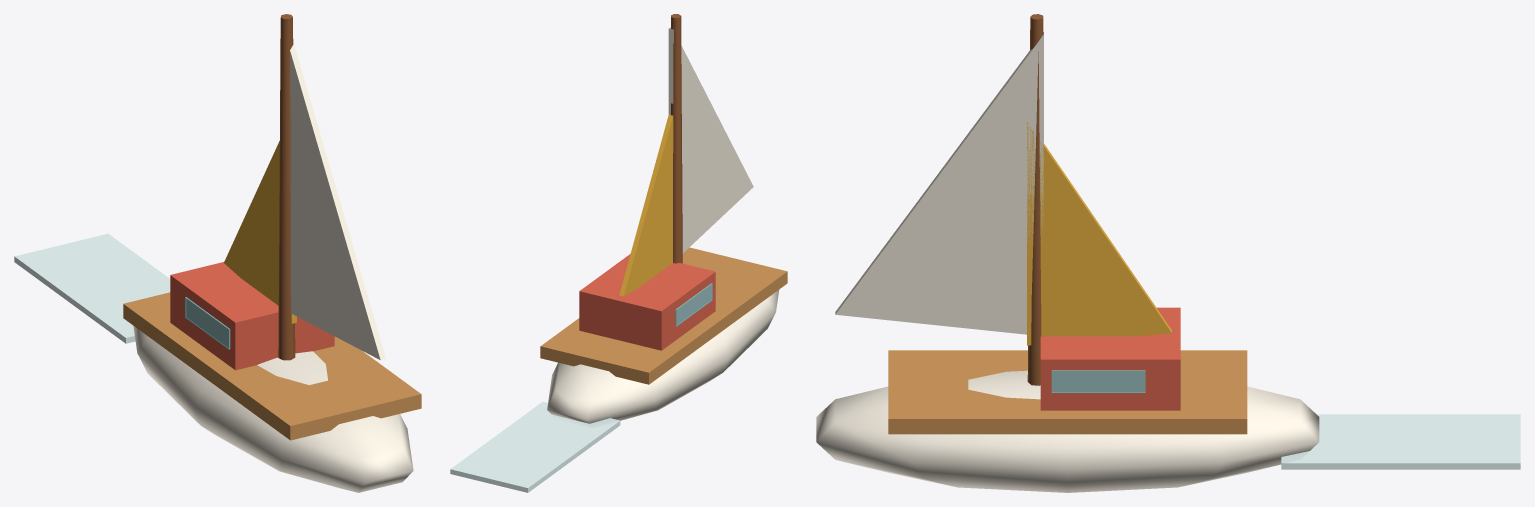
Rendered from cruising-boat.glb.
3 views of the same model, side by side, from view 1: azimuth 30°, elevation 25°; view 2: azimuth 150°, elevation 25°; view 3: azimuth 270°, elevation 25° (orthographic). The views are drawn at different scales.
Visible parts, largest first — view 1: Mesh_warmWhite, Mesh_lightWood, Mesh_coral, Mesh_waterFoam, Mesh_mango, Mesh_wood, Mesh_glass; view 2: Mesh_warmWhite, Mesh_lightWood, Mesh_coral, Mesh_waterFoam, Mesh_mango, Mesh_wood, Mesh_glass; view 3: Mesh_warmWhite, Mesh_lightWood, Mesh_mango, Mesh_waterFoam, Mesh_coral, Mesh_wood, Mesh_glass.
Boxes of the visible parts, box(x1,y1,x2,y2) form: Mesh_warmWhite: box(133, 42, 413, 492); Mesh_lightWood: box(123, 292, 421, 440); Mesh_coral: box(170, 262, 334, 370); Mesh_waterFoam: box(14, 233, 170, 343); Mesh_mango: box(224, 115, 296, 323); Mesh_wood: box(278, 14, 295, 360); Mesh_glass: box(185, 297, 230, 349); Mesh_warmWhite: box(547, 28, 779, 423); Mesh_lightWood: box(540, 247, 787, 384); Mesh_coral: box(579, 254, 715, 350); Mesh_waterFoam: box(450, 401, 620, 492); Mesh_mango: box(619, 114, 673, 296); Mesh_wood: box(670, 14, 682, 263); Mesh_glass: box(675, 283, 712, 326); Mesh_warmWhite: box(816, 32, 1319, 492); Mesh_lightWood: box(888, 350, 1247, 434); Mesh_mango: box(1027, 122, 1171, 345); Mesh_waterFoam: box(1281, 414, 1520, 469); Mesh_coral: box(1040, 307, 1180, 410); Mesh_wood: box(1027, 14, 1043, 385); Mesh_glass: box(1051, 370, 1145, 392).
Size of the model in its own units: 1.12 by 2.98 by 4.12.
